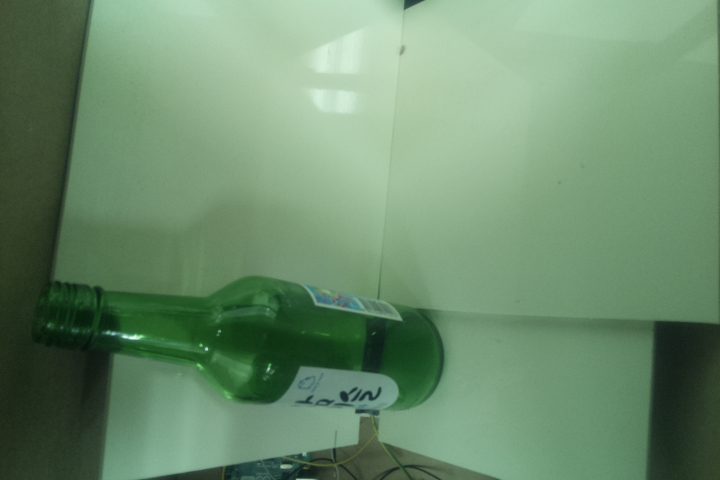soju: (30, 272, 443, 410)
